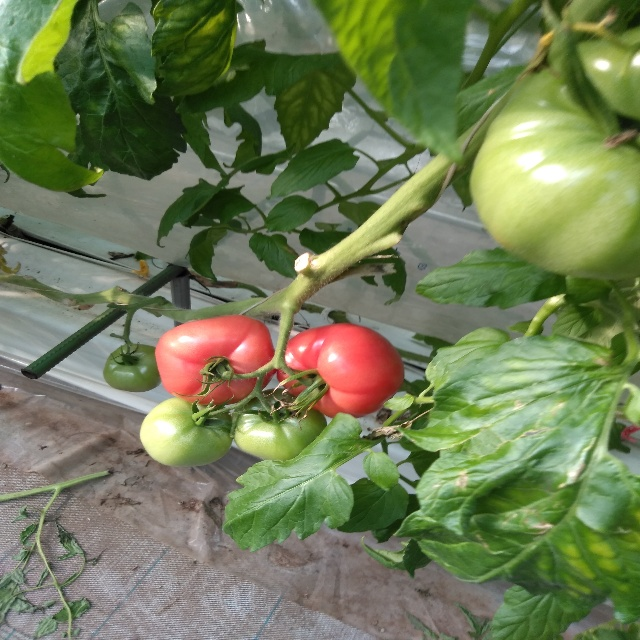b_fully_ripened: (276, 323, 405, 420), (154, 315, 279, 404)
b_green: (469, 26, 640, 278), (232, 387, 328, 462), (140, 397, 232, 468), (103, 343, 161, 392)
